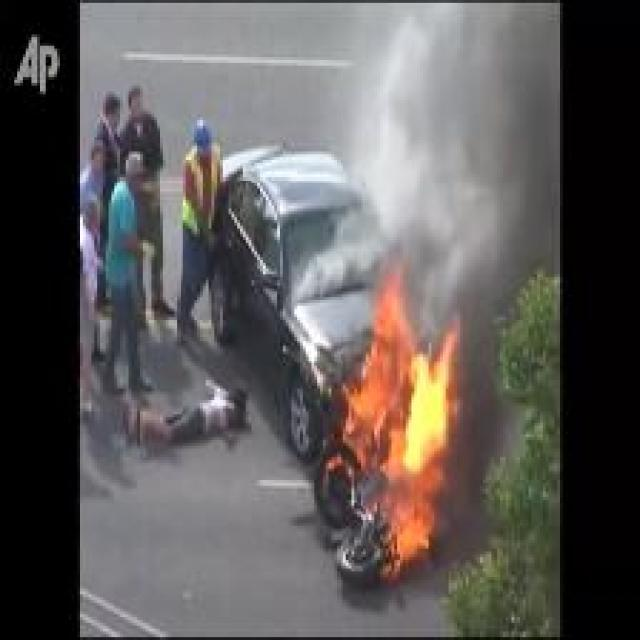Fire: (343, 264, 460, 582)
